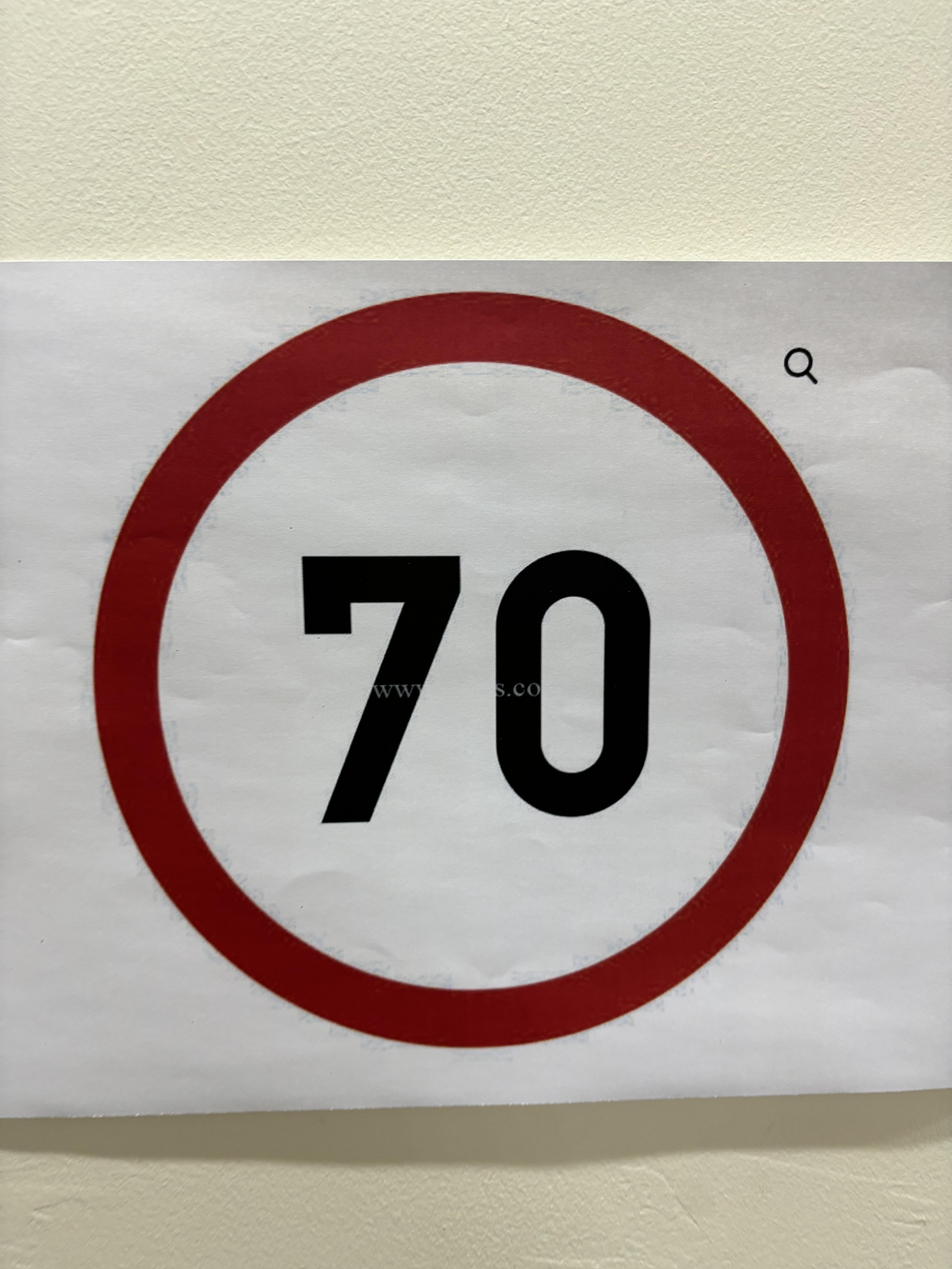70-Speed: (91, 287, 860, 1053)
